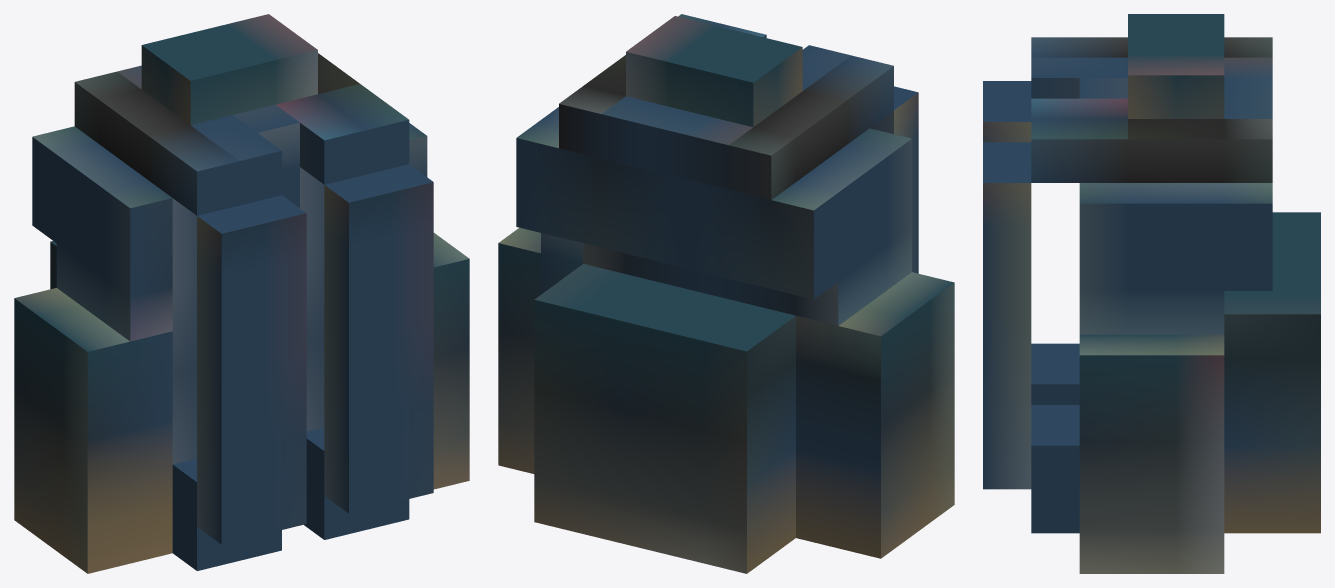
File: BackpackBlue_00.fbx
3 renders of one model, left to right at view 1: azimuth 30°, elevation 25°; view 2: azimuth 150°, elevation 25°; view 3: azimuth 270°, elevation 25°, orthographic.
Visible parts, largest first — view 1: BackpackBlue_00; view 2: BackpackBlue_00; view 3: BackpackBlue_00.
Part boxes in pixels (left/top/right/bottom): BackpackBlue_00: left=14, top=14, right=469, bottom=573; BackpackBlue_00: left=498, top=14, right=954, bottom=573; BackpackBlue_00: left=983, top=14, right=1320, bottom=573.
Size of the model in its own units: 45 by 35 by 50.
1 material, 1 textured.
